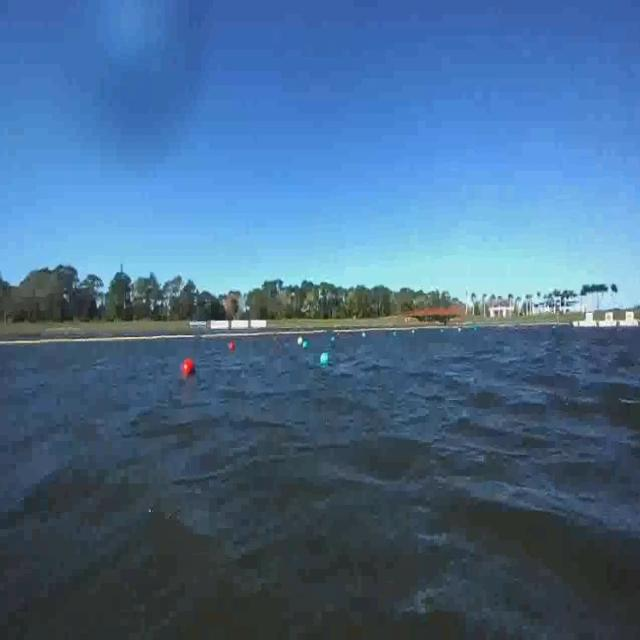green-buoy: (319, 349, 330, 369), (301, 338, 311, 353)
red-buoy: (182, 358, 196, 377)
red-column-buoy: (229, 342, 235, 354)
